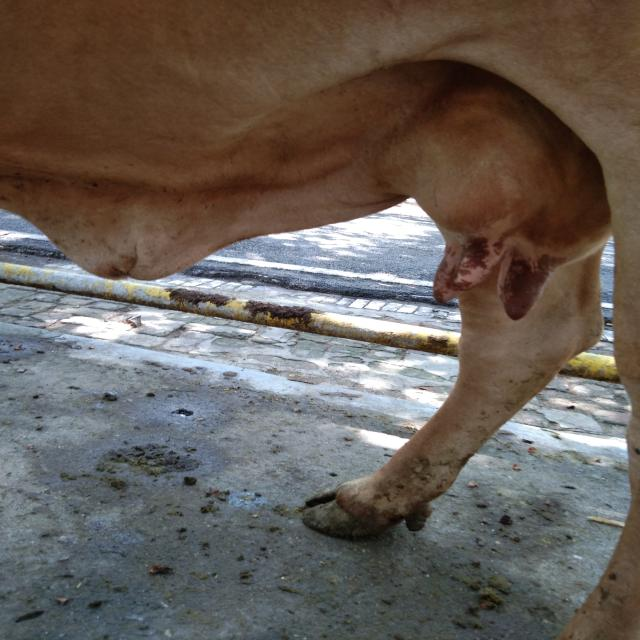Hoof: (301, 478, 432, 539)
